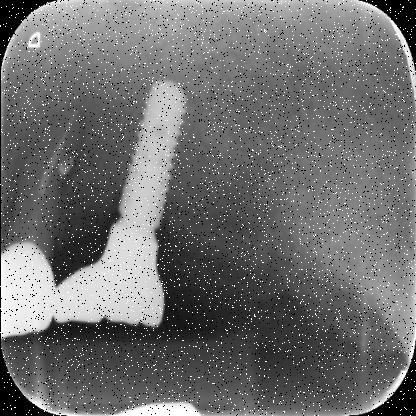ITI: (109, 69, 194, 244)
